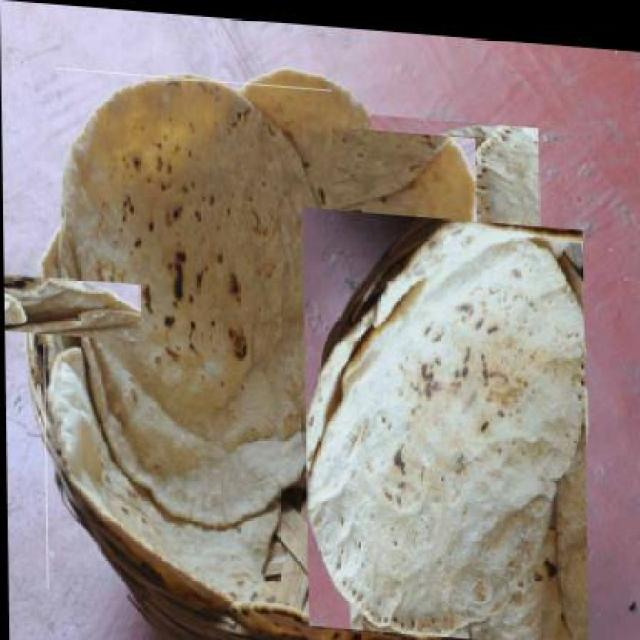chapati: (56, 66, 338, 532), (300, 200, 591, 638), (208, 85, 452, 342), (42, 344, 281, 605), (371, 108, 543, 289), (6, 249, 116, 366)
